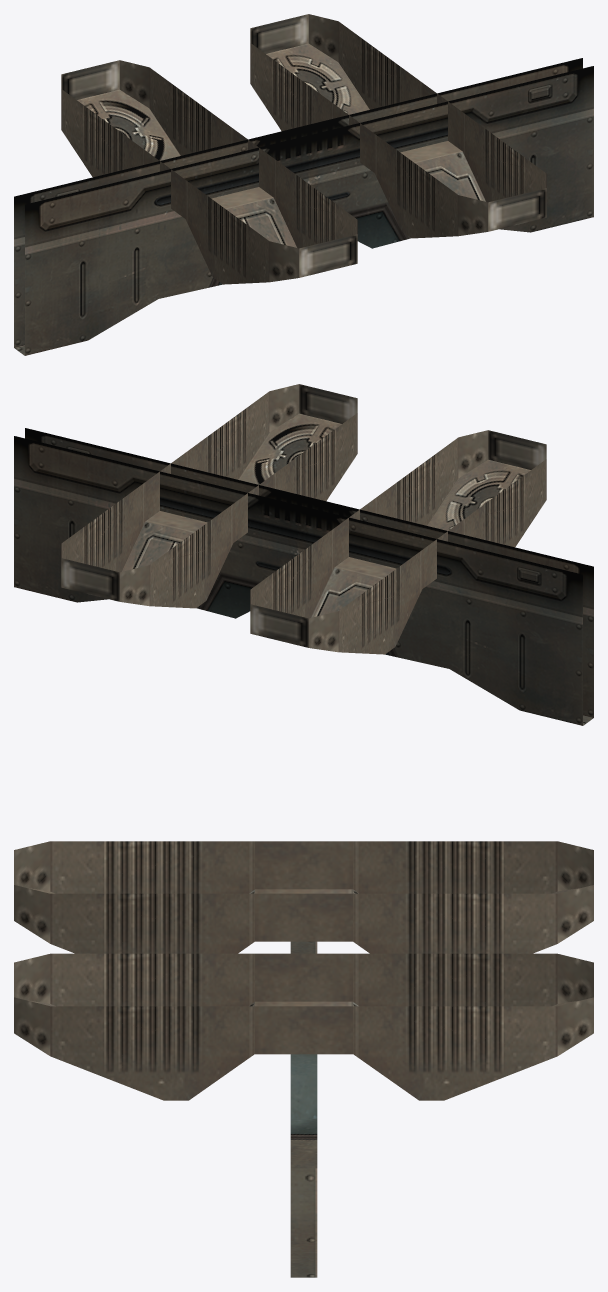
File: mprw_pillar_connect.FBX
The picture shows the model from 3 angles, top to bottom: view 1: azimuth 30°, elevation 25°; view 2: azimuth 150°, elevation 25°; view 3: azimuth 270°, elevation 25°; orthographic projection. The views are drawn at different scales.
Visible parts, largest first — view 1: mprw_pillar_connect; view 2: mprw_pillar_connect; view 3: mprw_pillar_connect.
Part boxes in pixels (x1,y1,x2,y2): mprw_pillar_connect: [14, 14, 593, 355]; mprw_pillar_connect: [14, 384, 593, 725]; mprw_pillar_connect: [14, 841, 593, 1277].
Size of the model in its own units: 700 by 178 by 507.
1 material, 1 textured.
